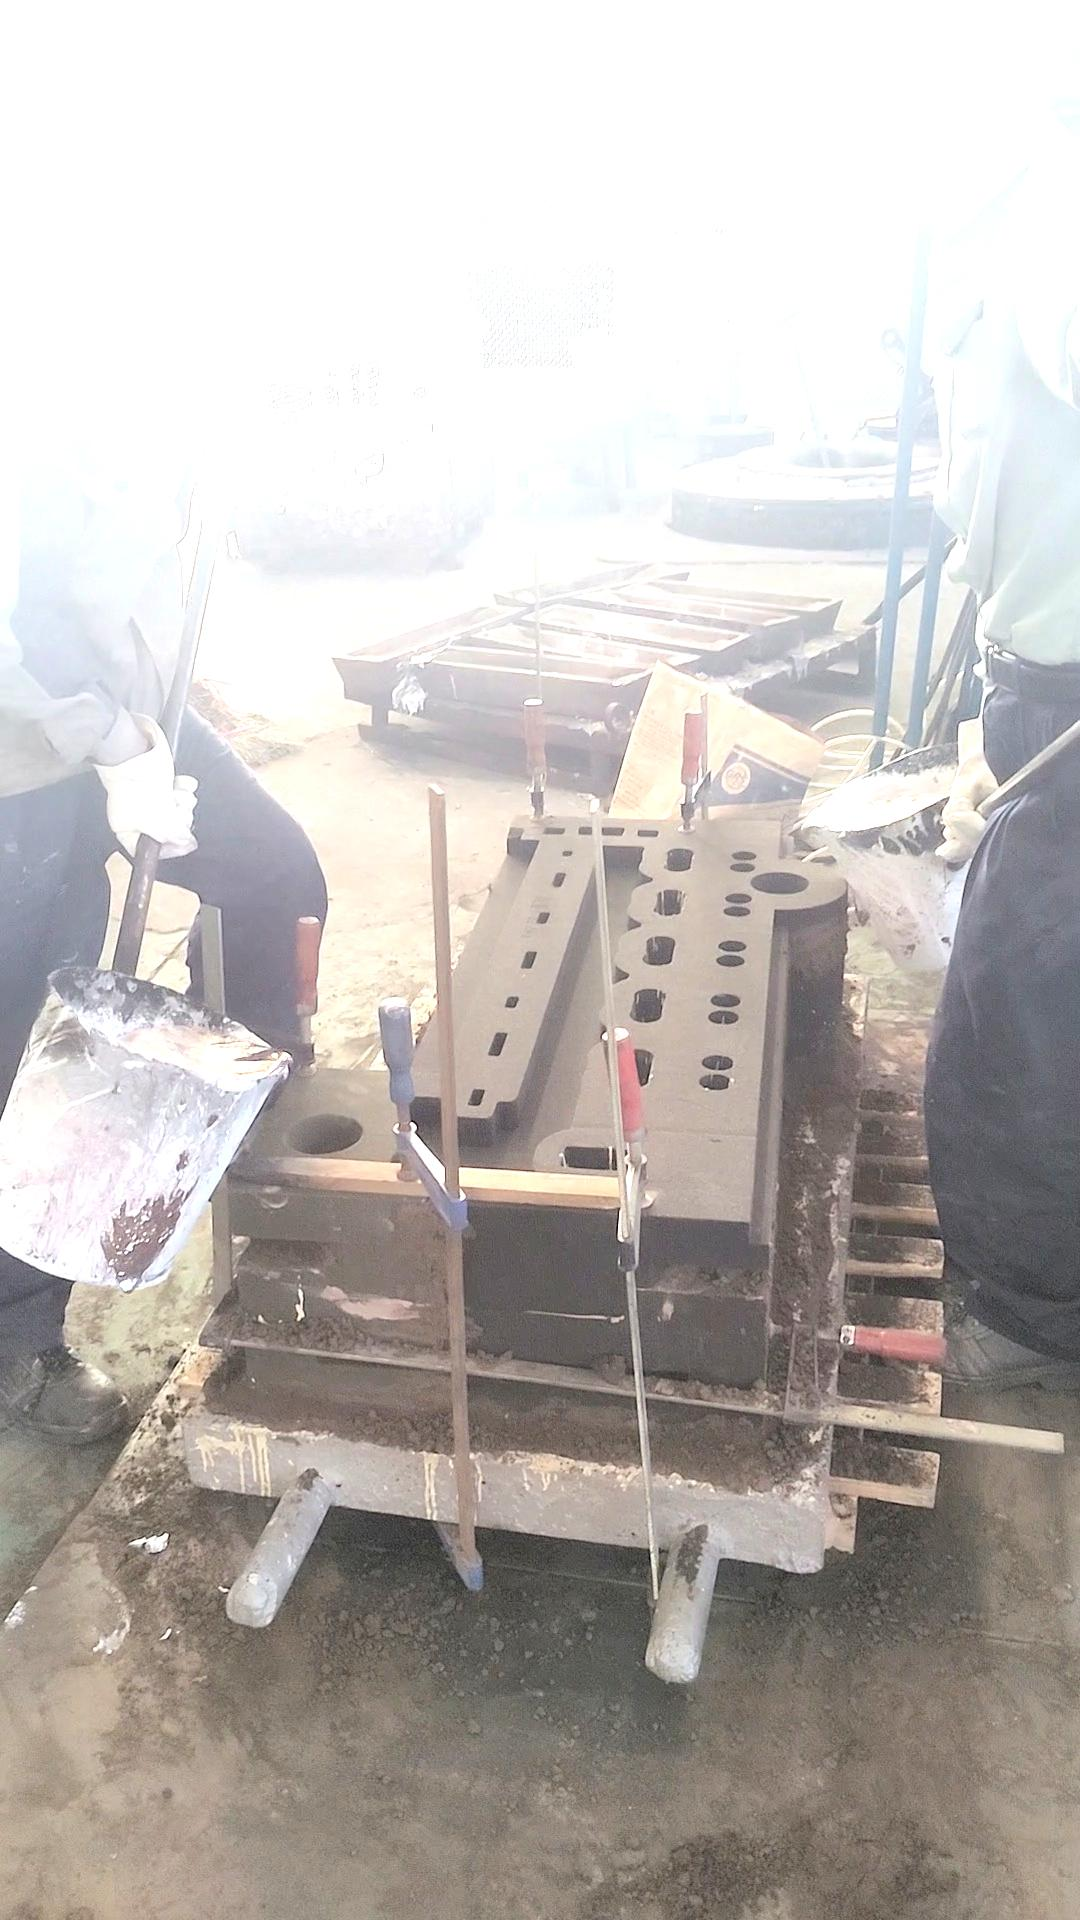pouring hole: (282, 1113, 363, 1154), (752, 872, 810, 895)
